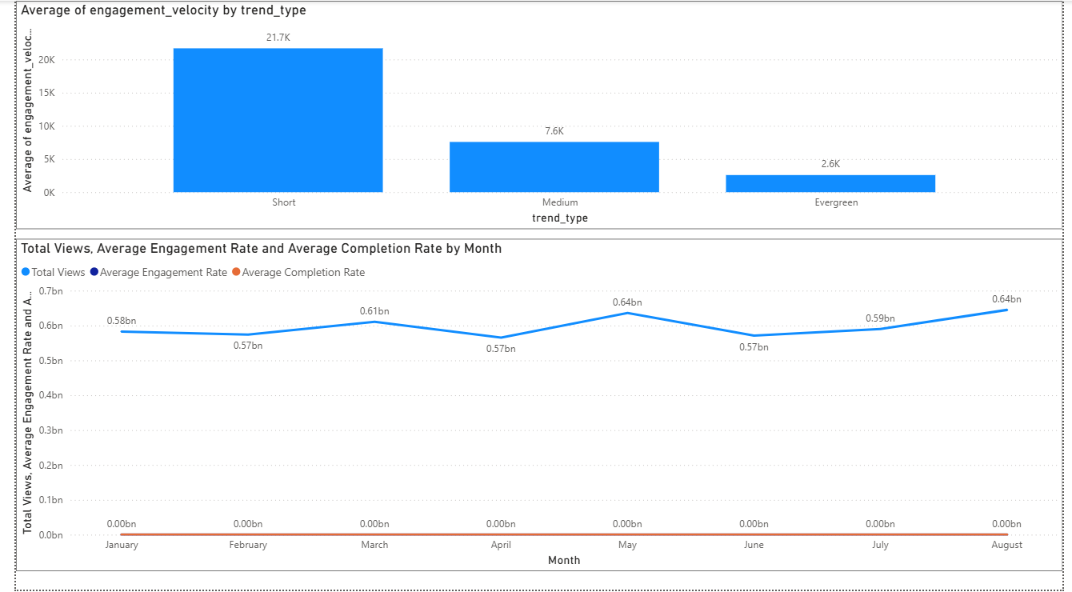

This screenshot's page, from the dashboard's own definition file:
{"tool":"powerbi","page":{"name":"Trend & Seasonality","canvas":[1280,720],"ordinal":4},"visuals":[{"type":"clusteredColumnChart","fields":{"Category":["youtube_shorts_tiktok_trends_2025.trend_type"],"Y":["Avg(youtube_shorts_tiktok_trends_2025.engagement_velocity)"]},"box":[0,0,1280,279.2],"z":0},{"type":"lineChart","fields":{"Category":["youtube_shorts_tiktok_trends_2025.year_month.Variation.Date Hierarchy.Month"],"Y":["youtube_shorts_tiktok_trends_2025.Total Views","youtube_shorts_tiktok_trends_2025.Average Engagement Rate","youtube_shorts_tiktok_trends_2025.Average Completion Rate"]},"box":[0,290.5,1280,406.8],"z":1000}]}

Visuals, with their boxes in screenshot pixels (x1, y1, x2, y2), scaled from the page's 1280x720 canvas onto the 1072x592 screenshot:
clusteredColumnChart - youtube_shorts_tiktok_trends_2025.trend_type x Avg(youtube_shorts_tiktok_trends_2025.engagement_velocity): crop(0, 0, 1071, 230)
lineChart - youtube_shorts_tiktok_trends_2025.year_month.Variation.Date Hierarchy.Month x youtube_shorts_tiktok_trends_2025.Total Views: crop(0, 239, 1071, 573)
